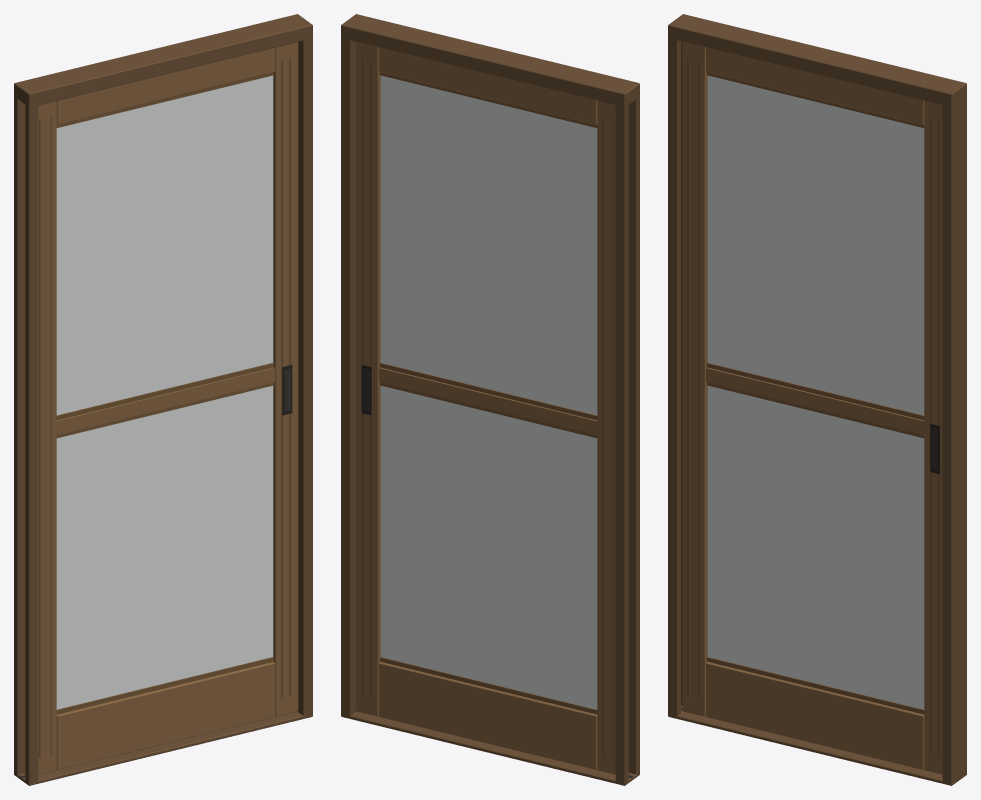
The model's file is door_sliding_glass.glb.
3 views of the same model, side by side, from view 1: azimuth 30°, elevation 25°; view 2: azimuth 150°, elevation 25°; view 3: azimuth 330°, elevation 25° (orthographic).
Visible parts, largest first — view 1: panel, frame; view 2: panel, frame; view 3: panel, frame.
Part boxes in pixels (x1,y1,x2,y2): panel: (38, 42, 298, 774); frame: (14, 14, 312, 785); panel: (355, 42, 615, 774); frame: (341, 14, 639, 785); panel: (682, 42, 942, 774); frame: (668, 14, 966, 785).
Size of the model in its own units: 0.86 by 2 by 0.08.
